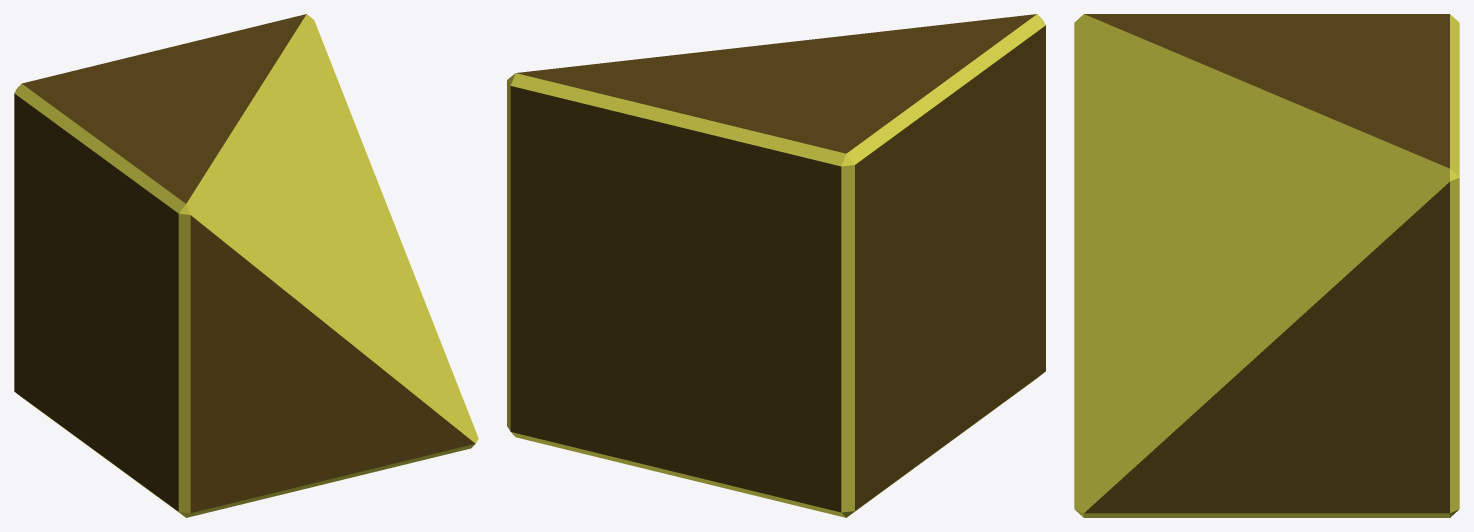
The model's file is NeUgolNew.fbx.
3 renders of one model, left to right at view 1: azimuth 30°, elevation 25°; view 2: azimuth 150°, elevation 25°; view 3: azimuth 270°, elevation 25°, orthographic. The views are drawn at different scales.
Visible parts, largest first — view 1: Cube; view 2: Cube; view 3: Cube.
Part boxes in pixels (x1,y1,x2,y2): Cube: (14, 14, 478, 517); Cube: (507, 14, 1045, 517); Cube: (1074, 14, 1459, 517).
Size of the model in its own units: 2 by 2 by 2.
